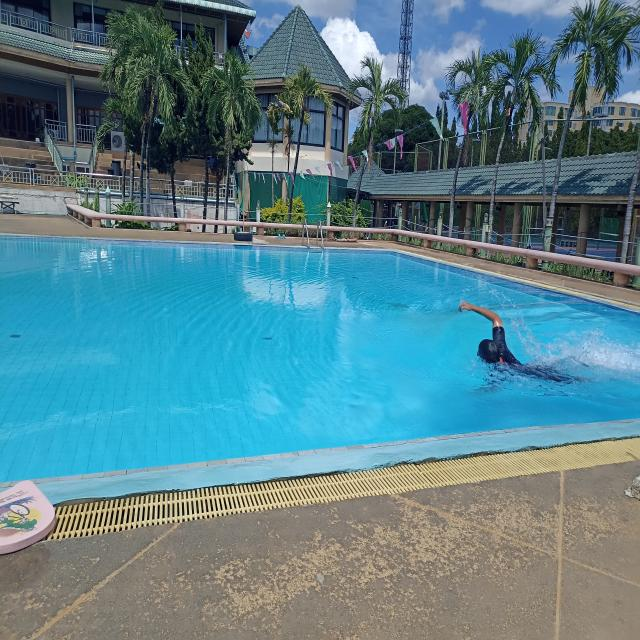Swimming: (450, 299, 622, 396)
